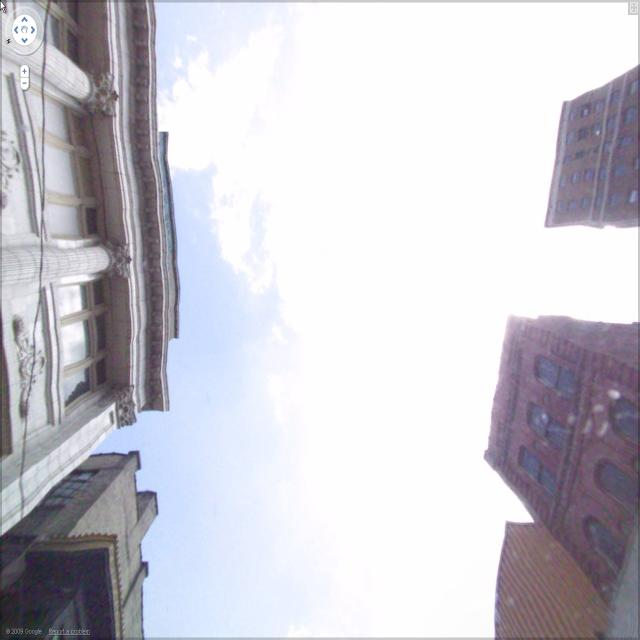b_1: (2, 1, 177, 424), (484, 307, 640, 579), (2, 456, 192, 640), (543, 59, 640, 237), (498, 515, 625, 640)
